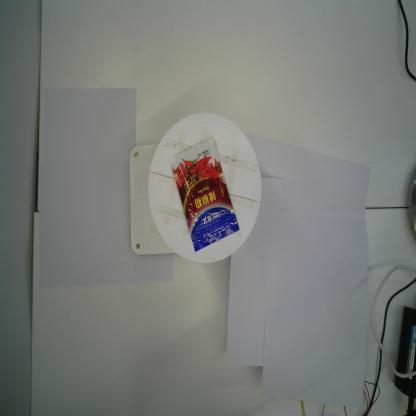Seasoner: (168, 137, 240, 254)
